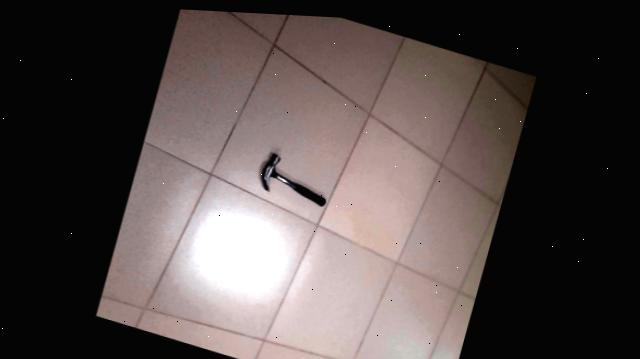hammer: (249, 140, 345, 220)
